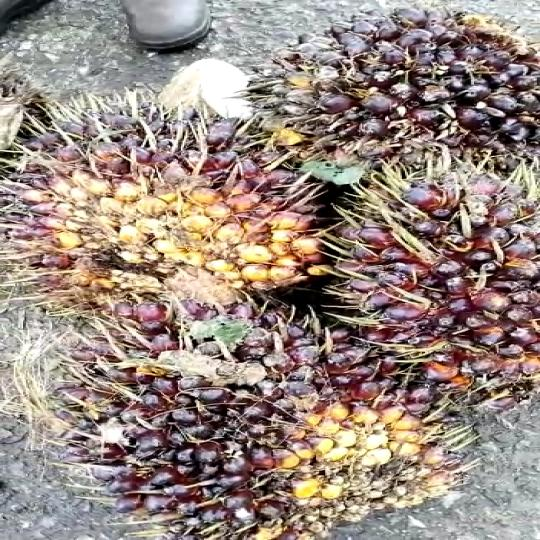kurang masak: (52, 295, 492, 540), (0, 90, 345, 310), (295, 148, 540, 428), (240, 2, 540, 189)
